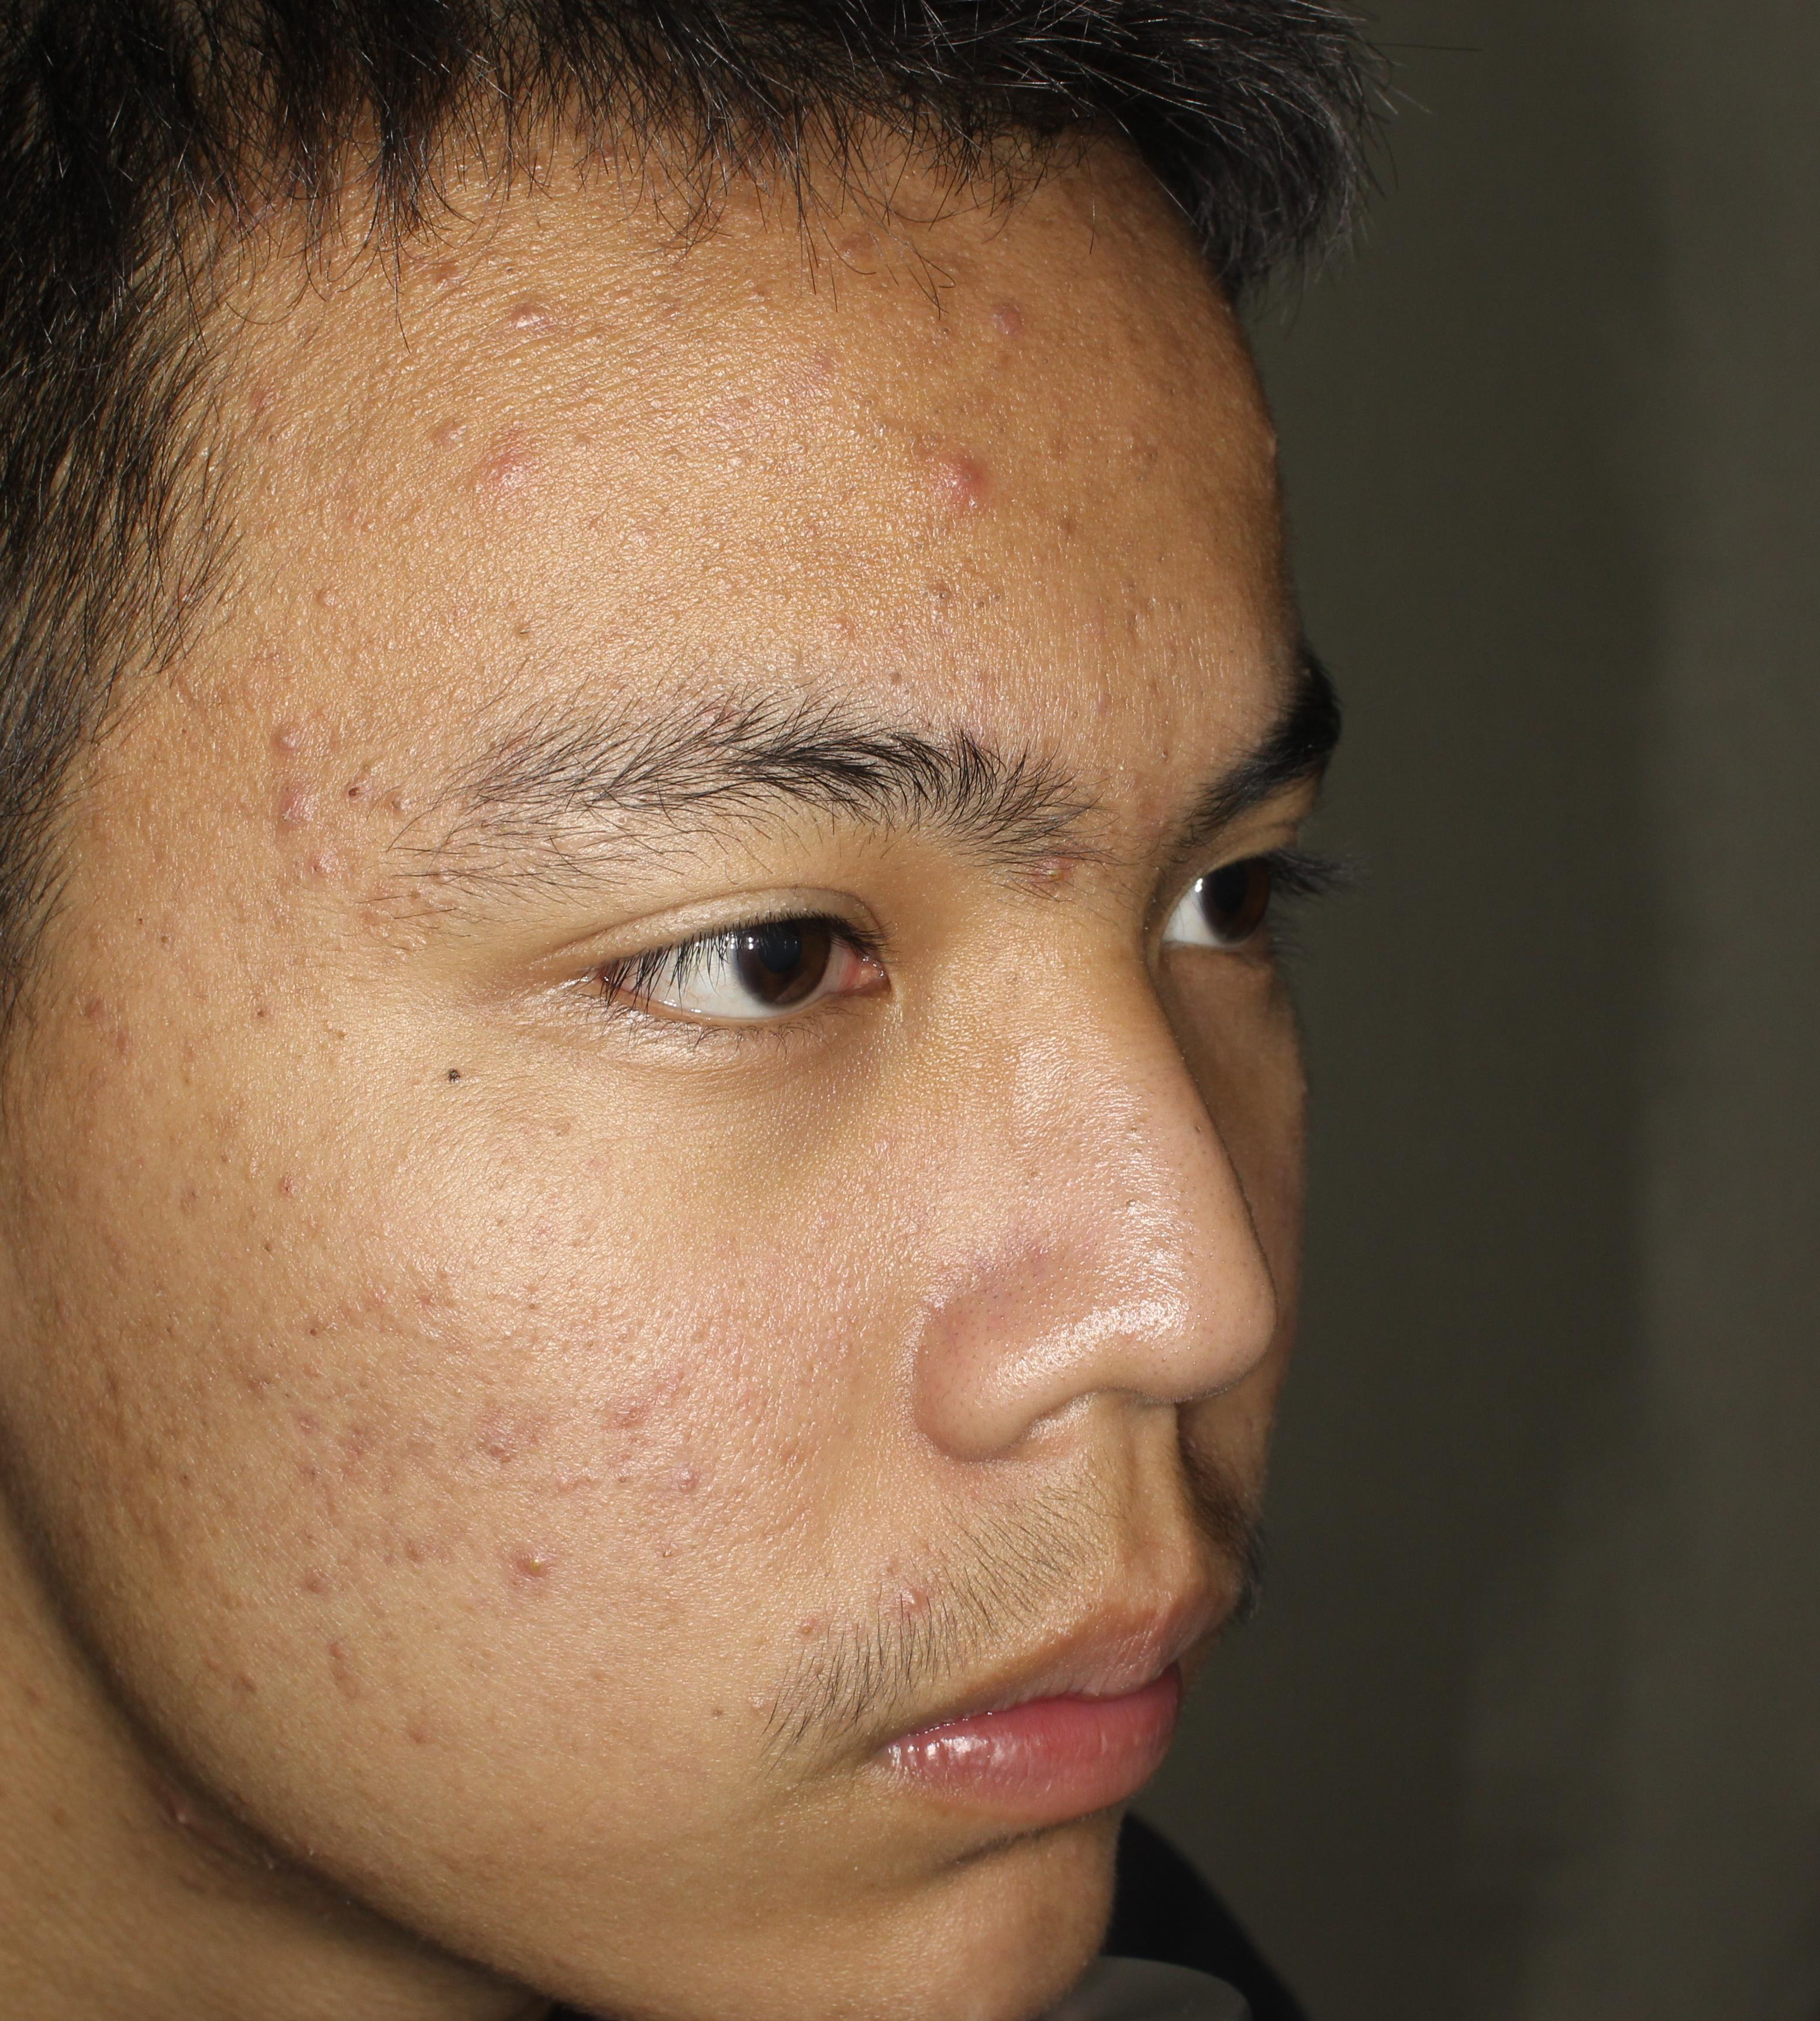fore: (221, 694, 372, 783), (898, 437, 996, 518), (970, 281, 1054, 370), (320, 1621, 392, 1724), (583, 1361, 673, 1442), (494, 1536, 597, 1603), (260, 792, 341, 864), (462, 428, 511, 532), (1036, 824, 1082, 904)
